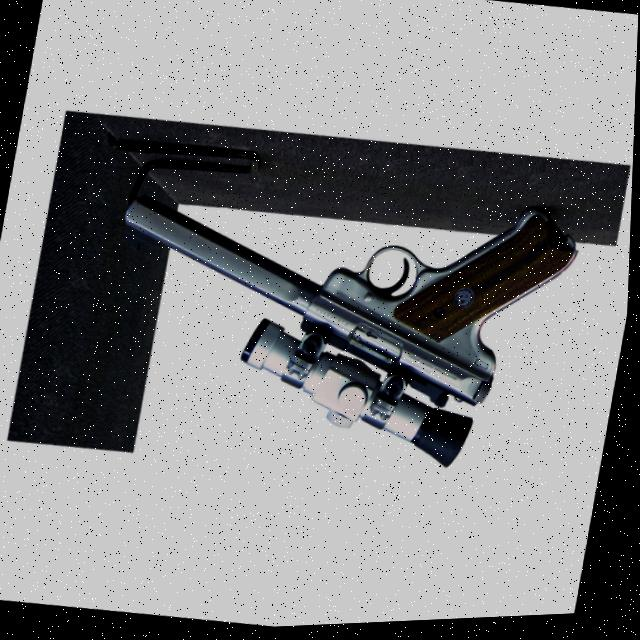pistol: (86, 150, 591, 501)
